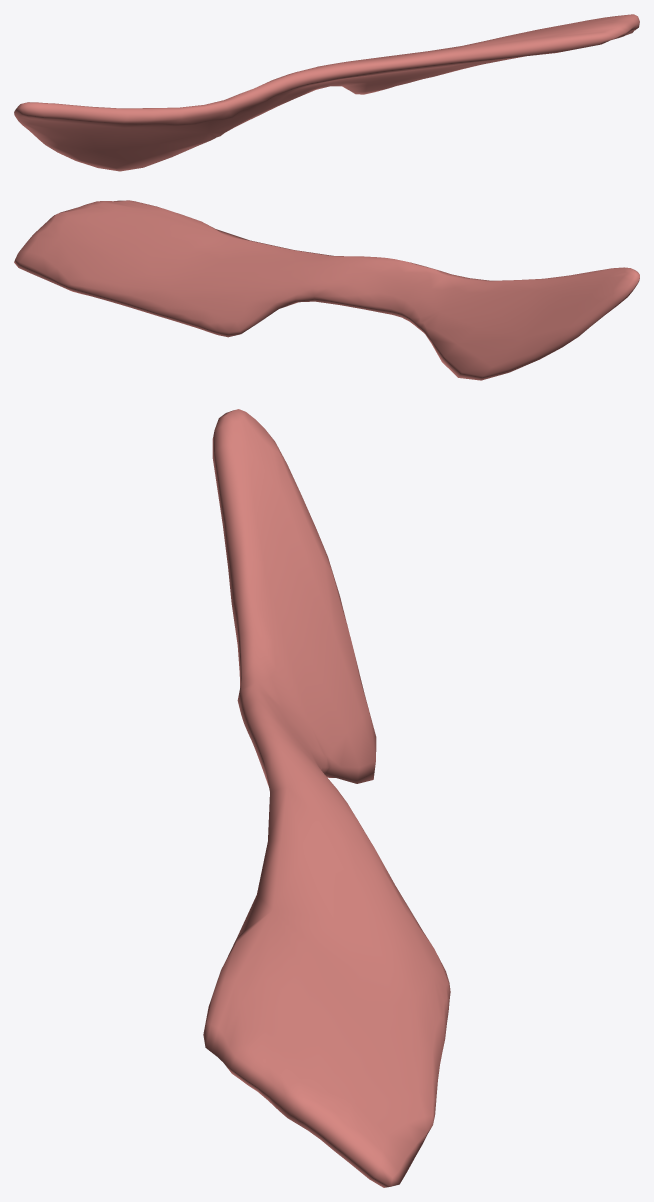
3 renders of one model, top to bottom at view 1: azimuth 30°, elevation 25°; view 2: azimuth 150°, elevation 25°; view 3: azimuth 270°, elevation 25°, orthographic. The views are drawn at different scales.
Parts seen in each view (by area): view 1: ZA_827e0d35cd044ab7; view 2: ZA_827e0d35cd044ab7; view 3: ZA_827e0d35cd044ab7.
Part boxes in pixels (bbox=[...]): ZA_827e0d35cd044ab7: bbox=[14, 14, 639, 171]; ZA_827e0d35cd044ab7: bbox=[14, 200, 639, 380]; ZA_827e0d35cd044ab7: bbox=[203, 409, 450, 1187].
Size of the model in its own units: 0.0225 by 0.00423 by 0.00409.
